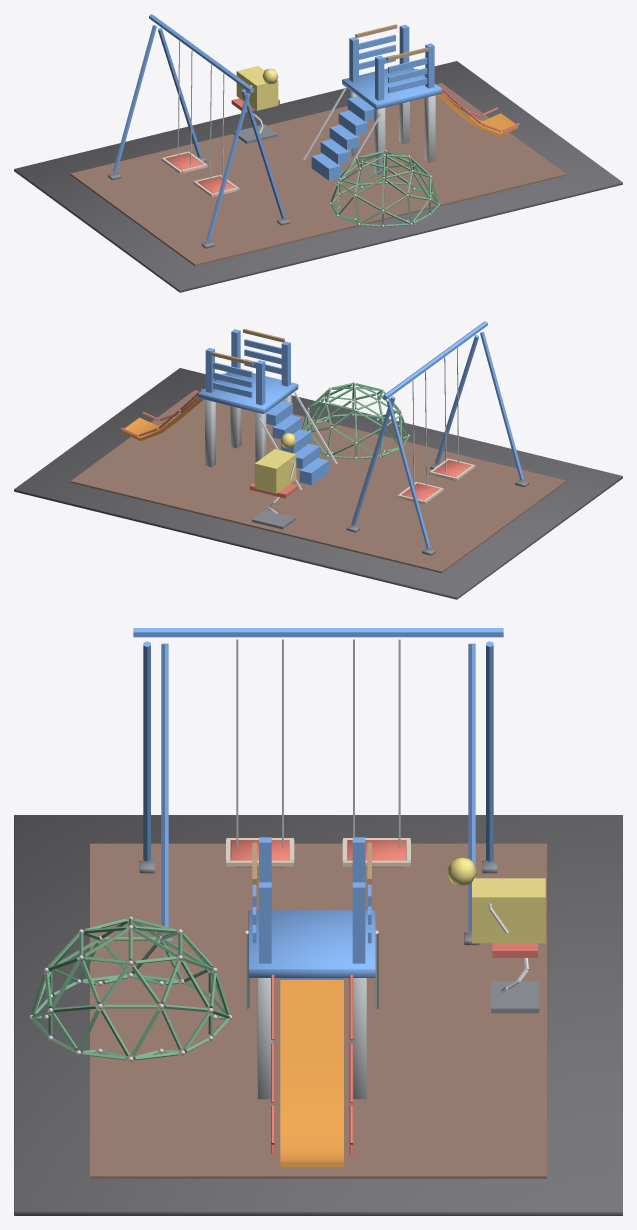
Rendered from Playground.fbx.
The picture shows the model from 3 angles, top to bottom: view 1: azimuth 30°, elevation 25°; view 2: azimuth 150°, elevation 25°; view 3: azimuth 270°, elevation 25°; orthographic projection. The views are drawn at different scales.
Parts seen in each view (by area): view 1: LOD0; view 2: LOD0; view 3: LOD0.
Boxes of the visible parts, x1,y1,x2,y2 form: LOD0: [14, 14, 622, 292]; LOD0: [14, 321, 622, 599]; LOD0: [14, 628, 622, 1215].
Size of what is drawn, in the model's own units: 740 by 248 by 480.
